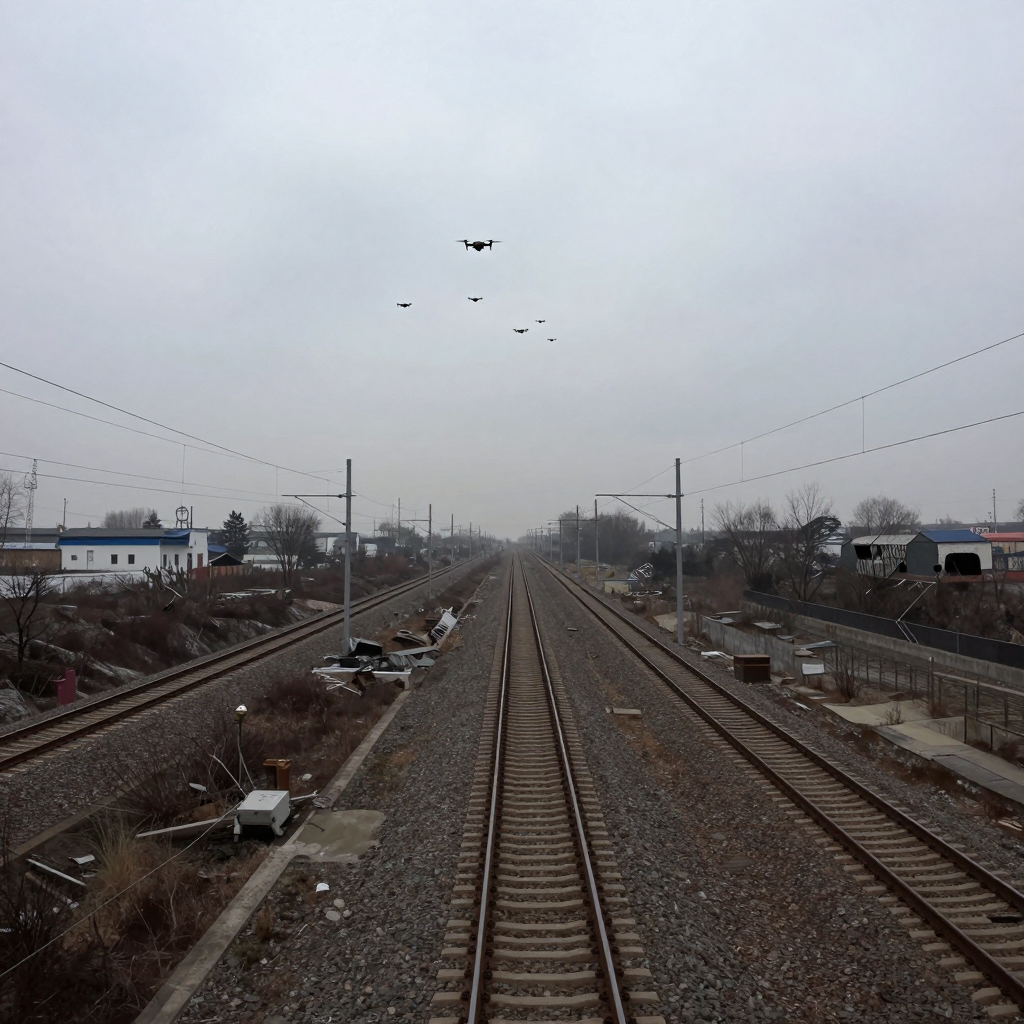drone: (455, 239, 503, 252), (468, 297, 483, 303), (513, 329, 529, 334), (397, 303, 412, 308), (535, 320, 545, 324), (547, 339, 557, 342)
